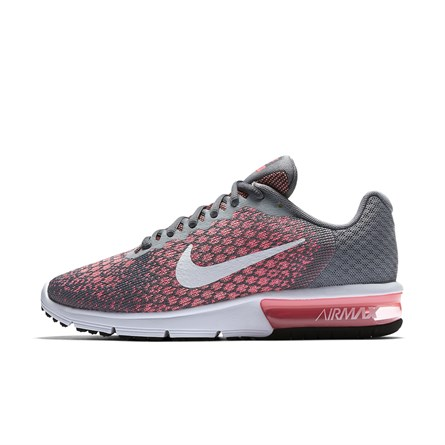nike: (175, 237, 311, 291)
